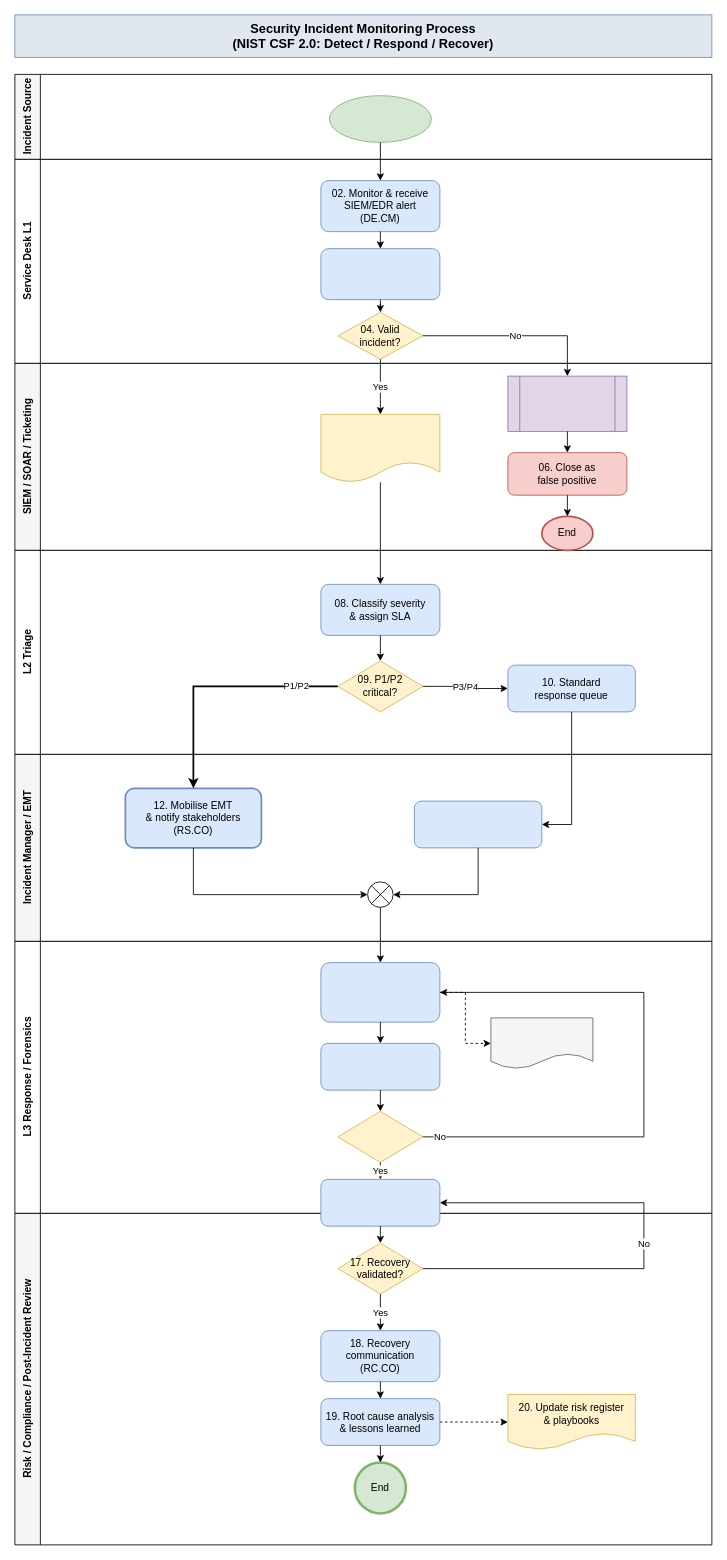
Some shapes in this 727 by 1560 pixel diagram are drawn without their labels. Each missing label, with the centre of its shape:
"01. Adverse event detected" belongs at (380,118).
"03. Initial triage & correlation (DE.AE)" belongs at (380,274).
"05. P18. False positive correction (subprocess)" belongs at (567,403).
"07. Create incident ticket / case record (RS.MA)" belongs at (380,448).
"11. Notify Threat Hunting" belongs at (478,824).
"13. Analyse incident & collect evidence (RS.AN)" belongs at (380,992).
"14. Contain threat (RS.MI)" belongs at (380,1066).
"15. Containment effective?" belongs at (380,1136).
"16. Eradicate threat & restore systems (RC.RP)" belongs at (380,1202).
"Evidence record" belongs at (541,1043).
